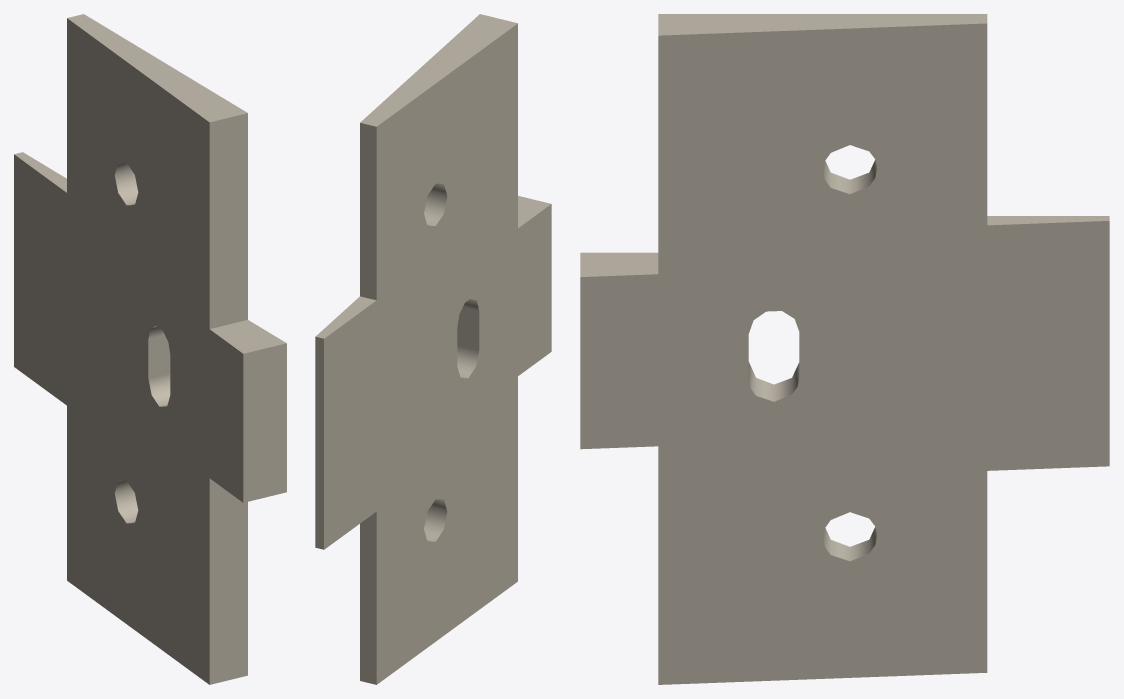
3 renders of one model, left to right at view 1: azimuth 30°, elevation 25°; view 2: azimuth 150°, elevation 25°; view 3: azimuth 270°, elevation 25°, orthographic. The views are drawn at different scales.
Visible parts, largest first — view 1: bau0006168397; view 2: bau0006168397; view 3: bau0006168397.
Part boxes in pixels (left/top/right/bottom): bau0006168397: left=14, top=14, right=286, bottom=684; bau0006168397: left=315, top=14, right=551, bottom=684; bau0006168397: left=580, top=14, right=1109, bottom=684.
Size of the model in its own units: 4.58 by 56.6 by 41.8.
